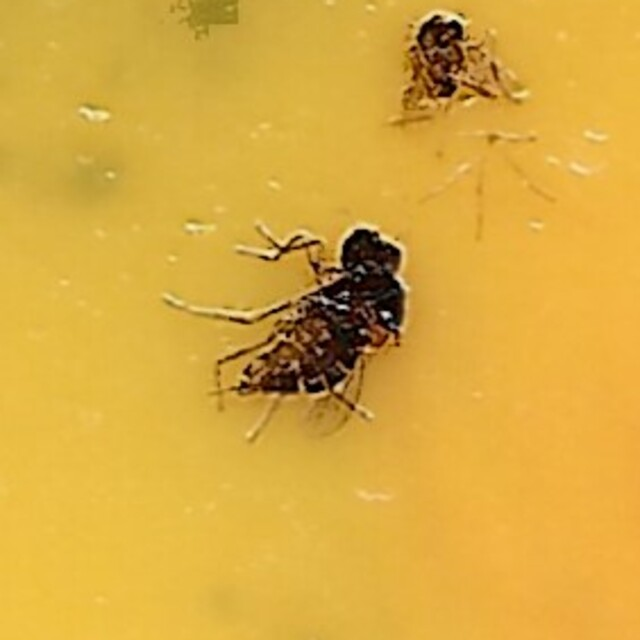Brachycera: (227, 221, 413, 419)
